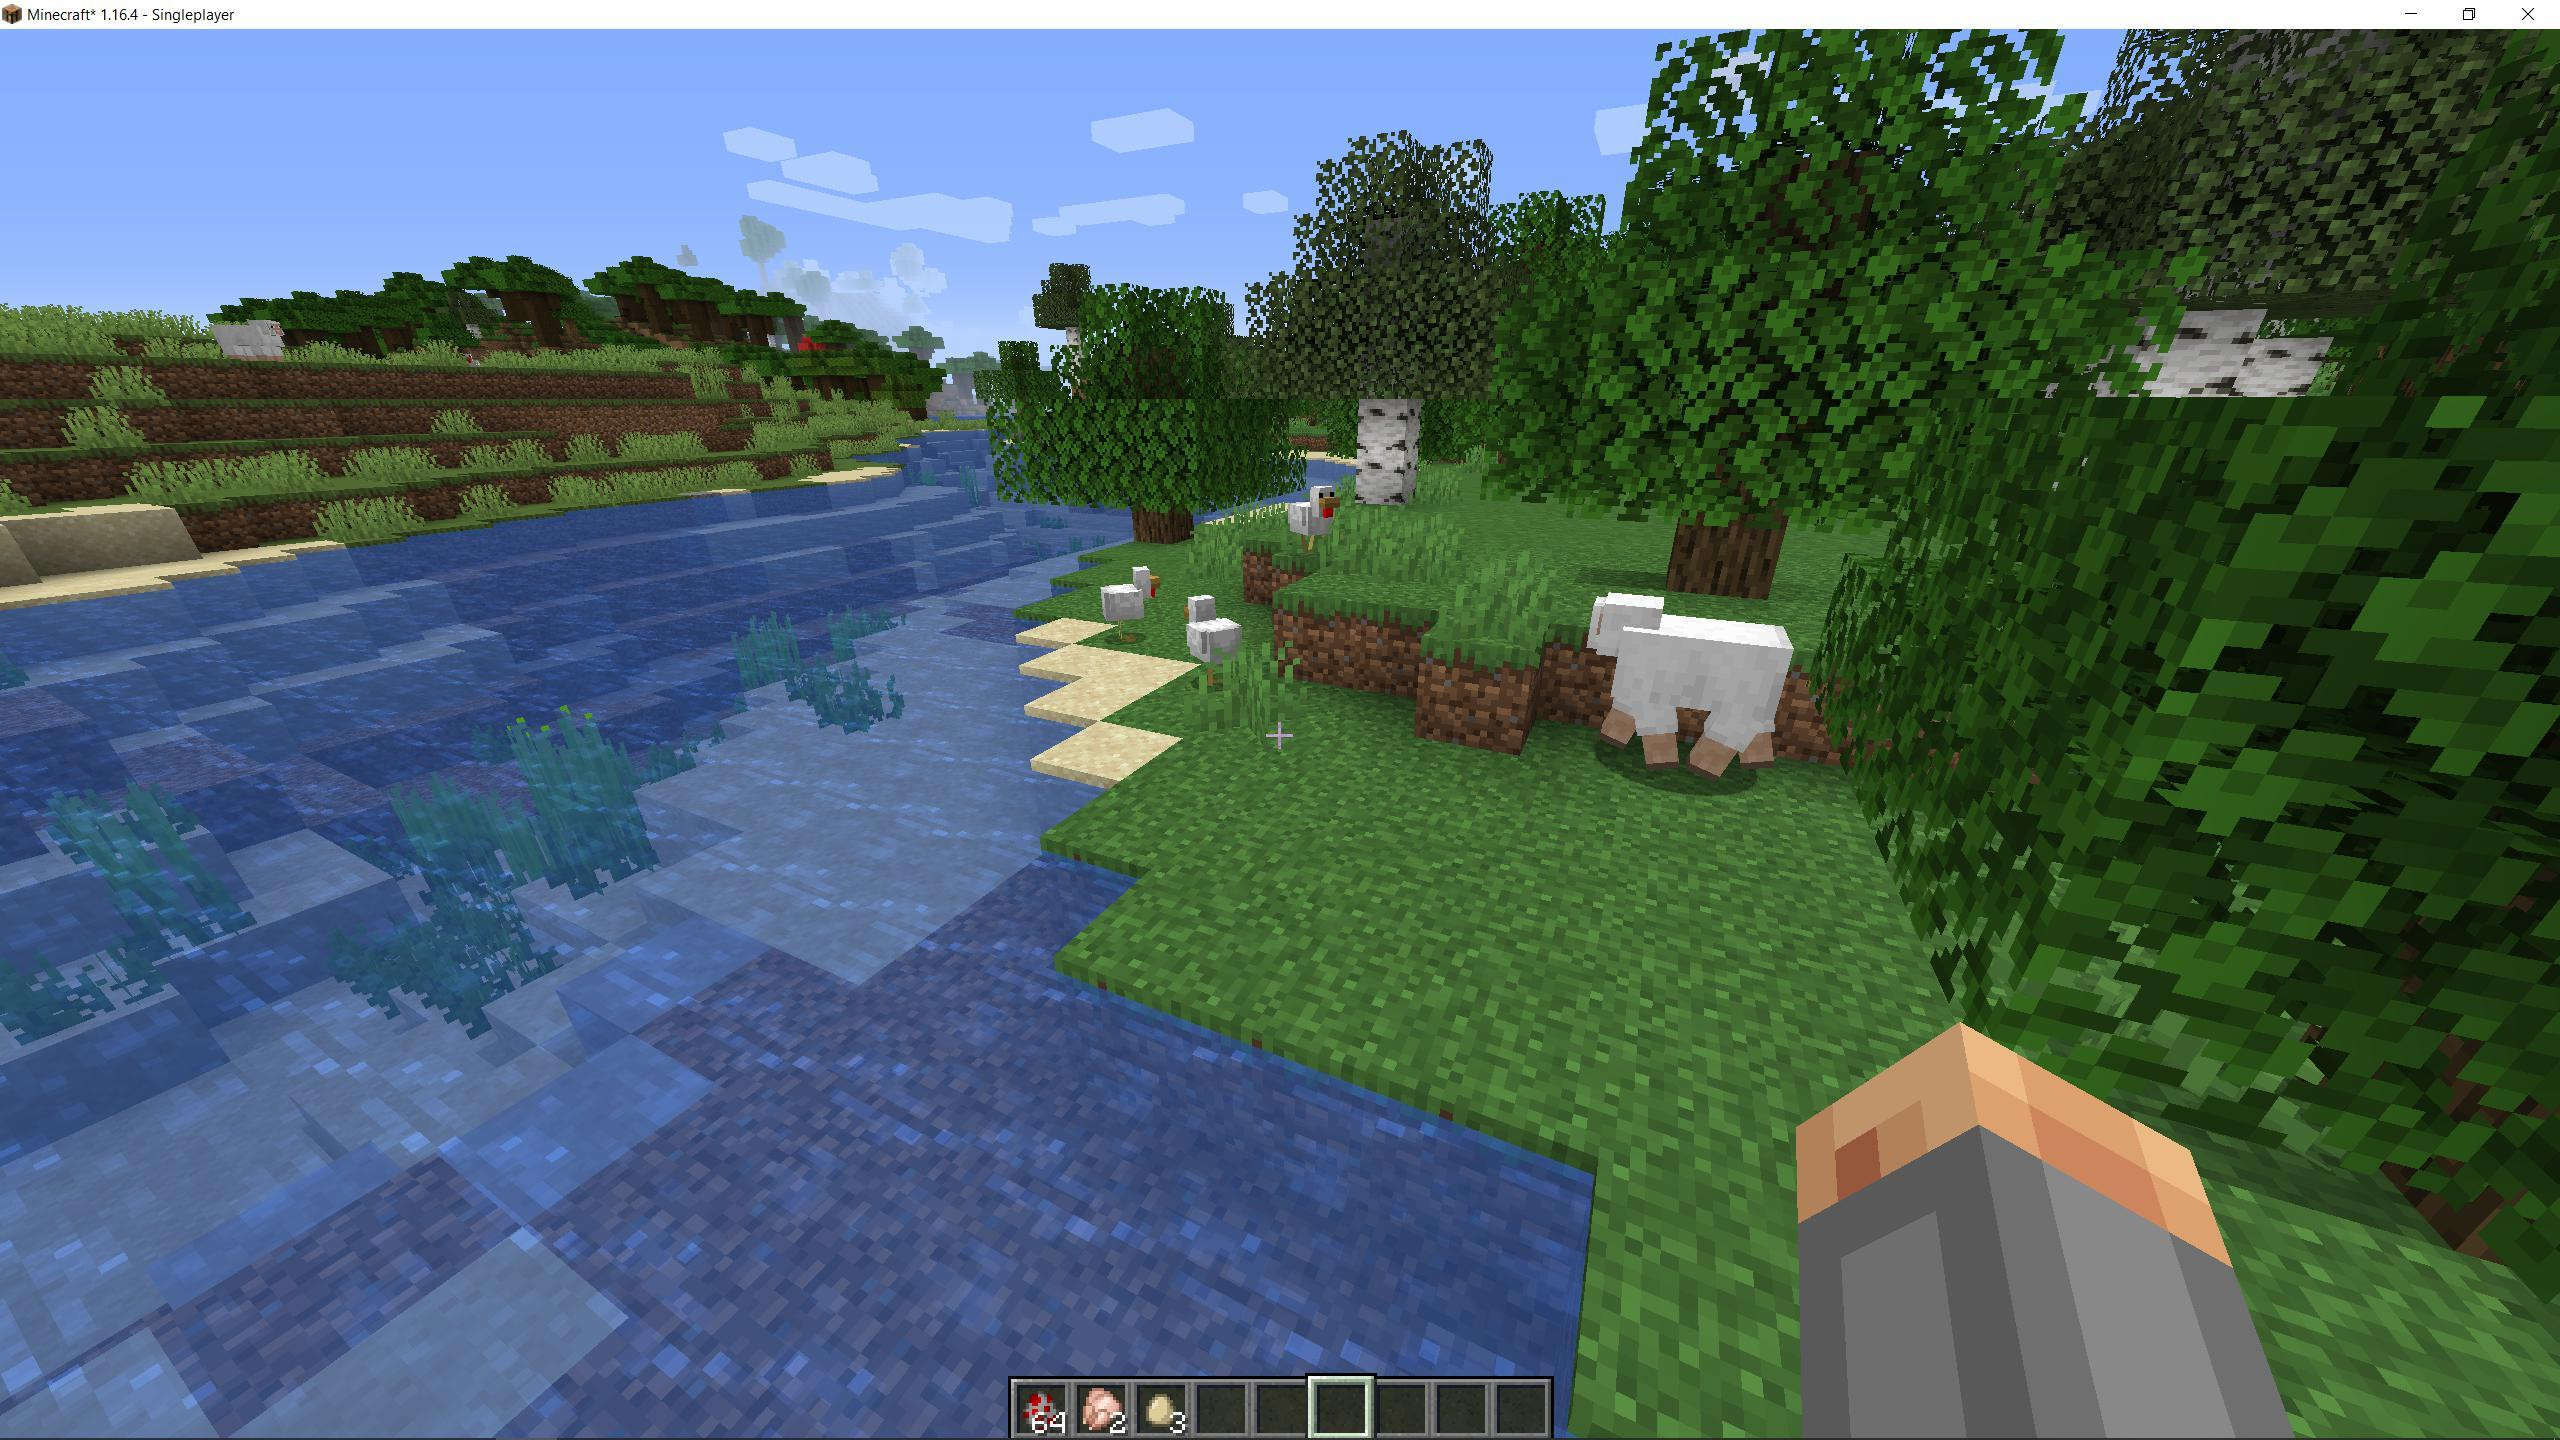chicken: (1173, 587, 1247, 702), (1285, 482, 1343, 563), (1097, 570, 1164, 638)
sheep: (1581, 577, 1807, 784)
